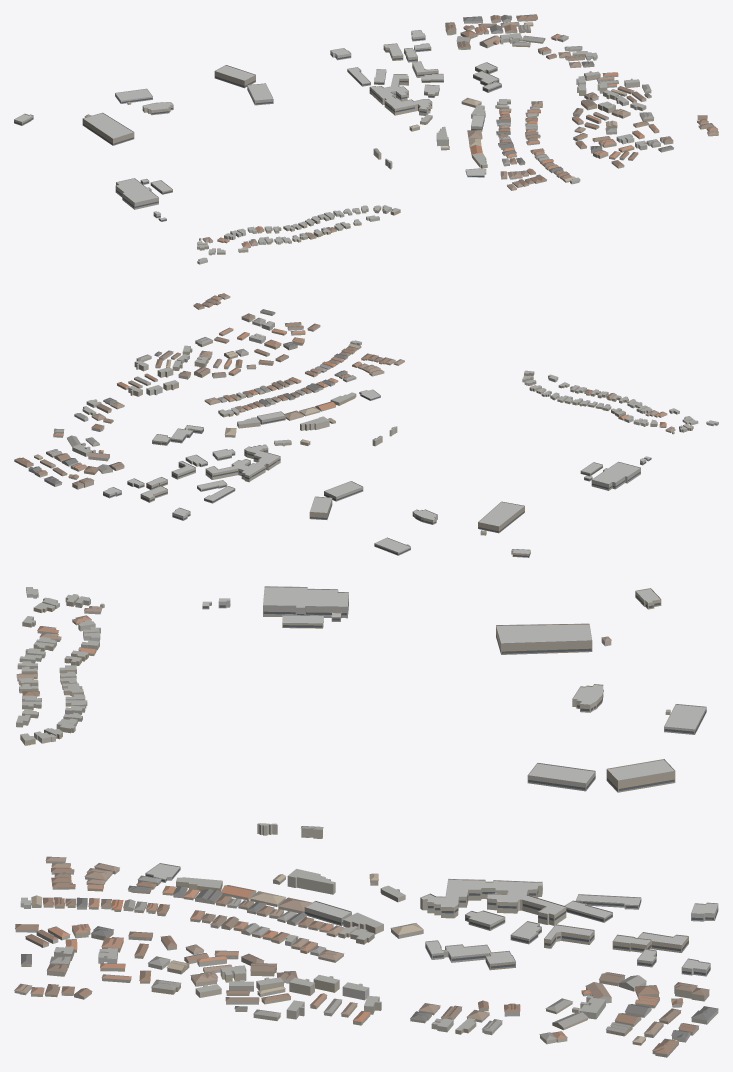
File: buildings_r4_c7.glb
3 renders of one model, top to bottom at view 1: azimuth 30°, elevation 25°; view 2: azimuth 150°, elevation 25°; view 3: azimuth 270°, elevation 25°, orthographic. The views are drawn at different scales.
Visible parts, largest first — view 1: buildings_r4_c7; view 2: buildings_r4_c7; view 3: buildings_r4_c7.
Boxes of the visible parts, box(x1,y1,x2,y2) form: buildings_r4_c7: box(14, 14, 718, 264); buildings_r4_c7: box(14, 293, 718, 557); buildings_r4_c7: box(14, 586, 718, 1057).
Size of the model in its own units: 1148 by 78.27 by 803.
